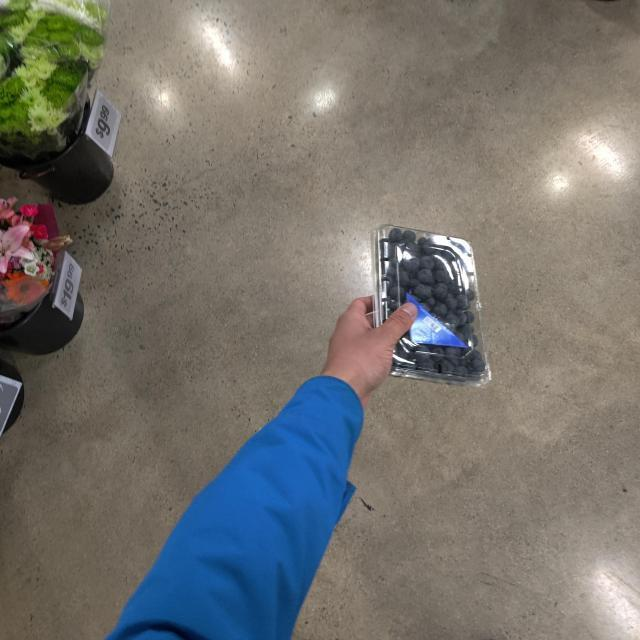Blueberries: (368, 226, 503, 386)
